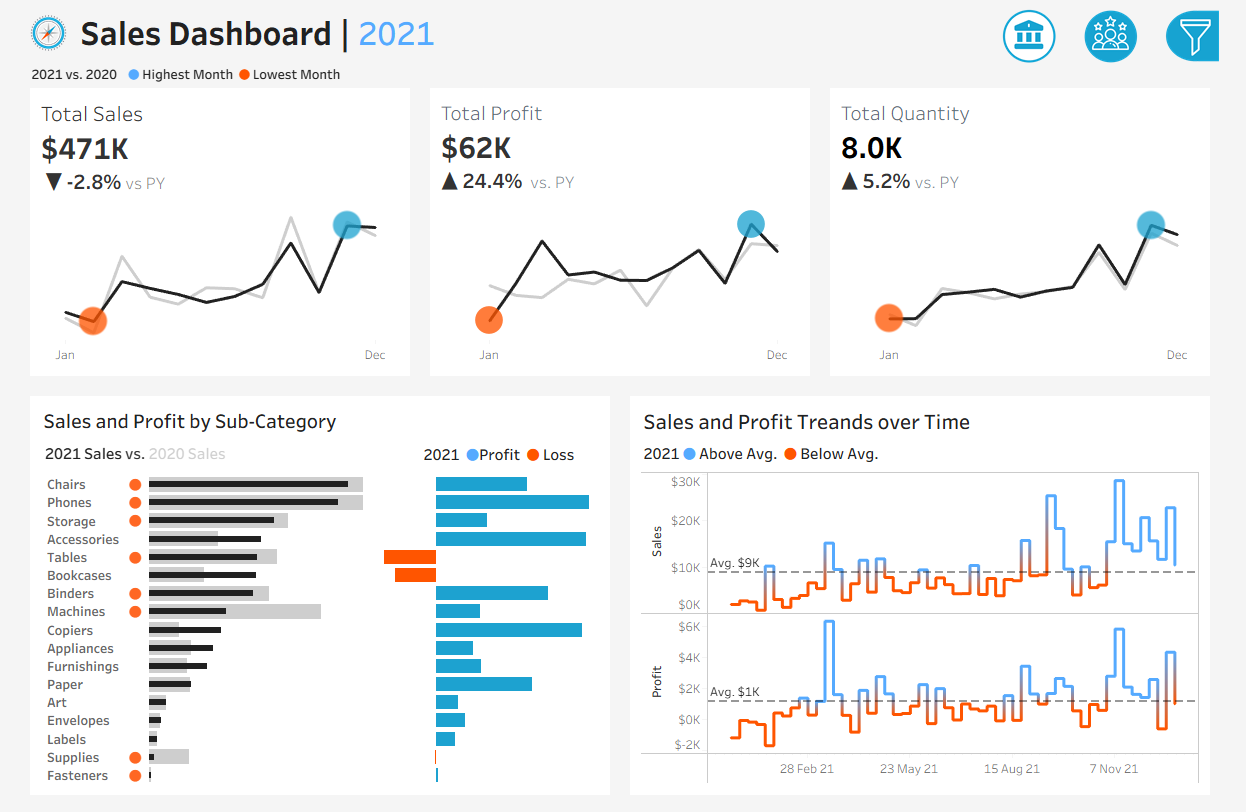

The dashboard page shown, as its layout file describes it:
{"tool":"tableau","page":{"name":"Sales Dashboard","canvas":[1200,800],"ordinal":1},"visuals":[{"type":"image","param":"Image/Icon - Logo.png","box":[2,0,52,55]},{"type":"text","box":[54,0,930,55]},{"type":"dashboard-object","box":[969,0,81,62]},{"type":"dashboard-object","box":[1050,0,81,62]},{"type":"blank","box":[978,5,215,80]},{"type":"worksheet","title":"Legend of KPI","mark":"Automatic","box":[0,55,1200,28]},{"type":"worksheet","title":"KPI Sales","mark":"Line","rows":["Calculation_0787825631051776"],"cols":["Order Date"],"box":[0,83,400,298]},{"type":"worksheet","title":"KPI Profit","mark":"Automatic","rows":["Calculation_0376338495287297"],"cols":["Order Date"],"box":[400,83,400,298]},{"type":"worksheet","title":"KPI Quantity","mark":"Automatic","rows":["Calculation_0591293386543109"],"cols":["Order Date"],"box":[800,83,400,298]},{"type":"text","box":[978,85,215,32]},{"type":"parameter","param":"[Parameters].[Parameter 1018997670502403]","box":[978,117,215,63]},{"type":"blank","box":[978,180,215,45]},{"type":"text","box":[978,225,215,29]},{"type":"filter","title":"KPI Sales","param":"[federated.0a49qa90tgosyq102g3m016yynfo].[none:Category:nk]","box":[978,254,215,52]},{"type":"filter","title":"KPI Sales","param":"[federated.0a49qa90tgosyq102g3m016yynfo].[none:Sub-Category:nk]","box":[978,306,215,52]},{"type":"blank","box":[978,358,215,42]},{"type":"text","box":[17,398,566,34]},{"type":"text","box":[617,398,566,36]},{"type":"text","box":[978,400,215,38]},{"type":"worksheet","title":"Legend of Sub-Category","mark":"Automatic","box":[17,432,380,34]},{"type":"text","box":[397,432,186,34]},{"type":"text","box":[617,434,566,29]},{"type":"filter","title":"KPI Sales","param":"[federated.0a49qa90tgosyq102g3m016yynfo].[none:Region:nk]","box":[978,438,215,52]},{"type":"worksheet","title":"Weekly Trends","mark":"Automatic","rows":["Calculation_1018997668982784","Calculation_0606411282939905"],"cols":["Order Date"],"box":[617,463,566,320]},{"type":"worksheet","title":"Category Comparison","mark":"Bar","rows":["Sub-Category","Calculation_0218833958481920"],"cols":["Calculation_1018997669982209","Calculation_1018997668982784","Calculation_0606411282939905"],"box":[17,466,566,316.9]},{"type":"filter","title":"KPI Sales","param":"[federated.0a49qa90tgosyq102g3m016yynfo].[none:State:nk]","box":[978,490,215,52]},{"type":"filter","title":"KPI Sales","param":"[federated.0a49qa90tgosyq102g3m016yynfo].[none:City:nk]","box":[978,542,215,52]}]}

Visuals, with their boxes in screenshot pixels (x1, y1, x2, y2), scaled from the page's 1200x800 canvas onto the 1246x812 screenshot:
image: l=2, t=0, r=56, b=56
text: l=56, t=0, r=1022, b=56
dashboard-object: l=1006, t=0, r=1090, b=63
dashboard-object: l=1090, t=0, r=1174, b=63
blank: l=1015, t=5, r=1239, b=86
"Legend of KPI" worksheet: l=0, t=56, r=1245, b=84
"KPI Sales" worksheet (Line marks): l=0, t=84, r=415, b=387
"KPI Profit" worksheet: l=415, t=84, r=831, b=387
"KPI Quantity" worksheet: l=831, t=84, r=1245, b=387
text: l=1015, t=86, r=1239, b=119
parameter: l=1015, t=119, r=1239, b=183
blank: l=1015, t=183, r=1239, b=228
text: l=1015, t=228, r=1239, b=258
"KPI Sales" filter: l=1015, t=258, r=1239, b=311
"KPI Sales" filter: l=1015, t=311, r=1239, b=363
blank: l=1015, t=363, r=1239, b=406
text: l=18, t=404, r=605, b=438
text: l=641, t=404, r=1228, b=441
text: l=1015, t=406, r=1239, b=445
"Legend of Sub-Category" worksheet: l=18, t=438, r=412, b=473
text: l=412, t=438, r=605, b=473
text: l=641, t=441, r=1228, b=470
"KPI Sales" filter: l=1015, t=445, r=1239, b=497
"Weekly Trends" worksheet: l=641, t=470, r=1228, b=795
"Category Comparison" worksheet (Bar marks): l=18, t=473, r=605, b=795
"KPI Sales" filter: l=1015, t=497, r=1239, b=550
"KPI Sales" filter: l=1015, t=550, r=1239, b=603
